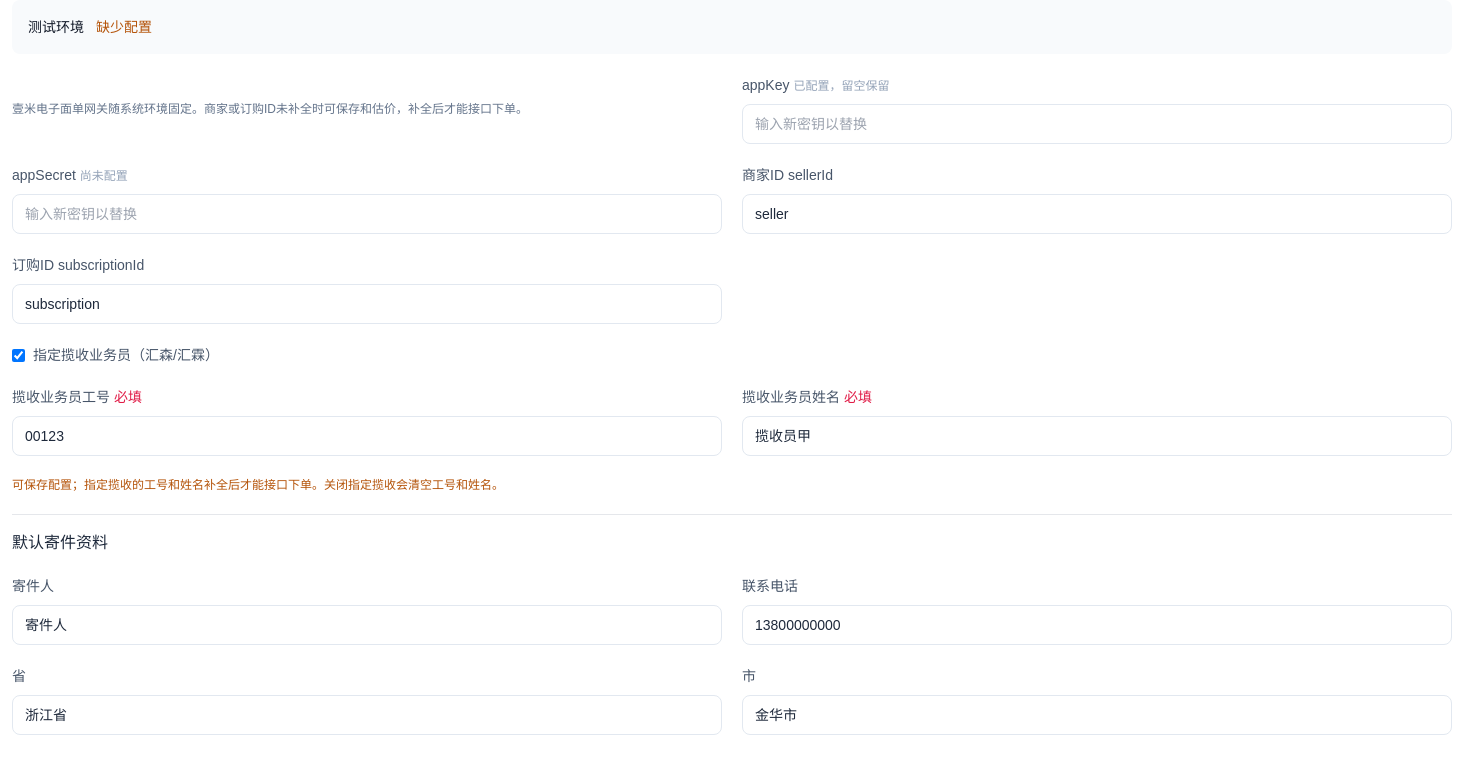
Test: logistics configuration forms › still warns about a changed Yimi identity when appKey changes
The width and height of the screenshot is (1464, 759).
Expected: the text "账号身份已变更" is not shown
Type "changed" into the password field named "appKey".
click(1097, 124); type("changed")  # box [742,104,1452,144]
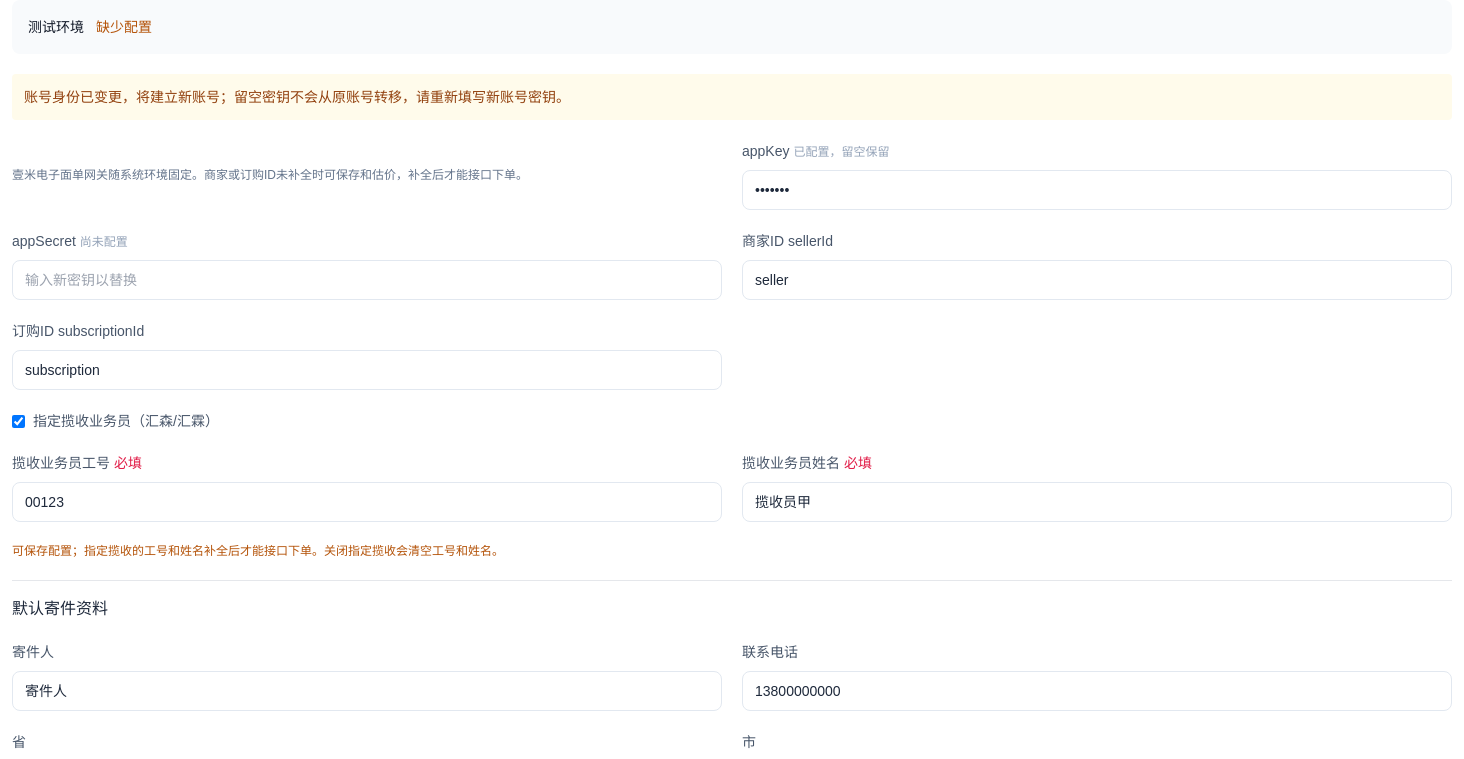
Now the text "账号身份已变更" is shown, box [24,89,570,105]
